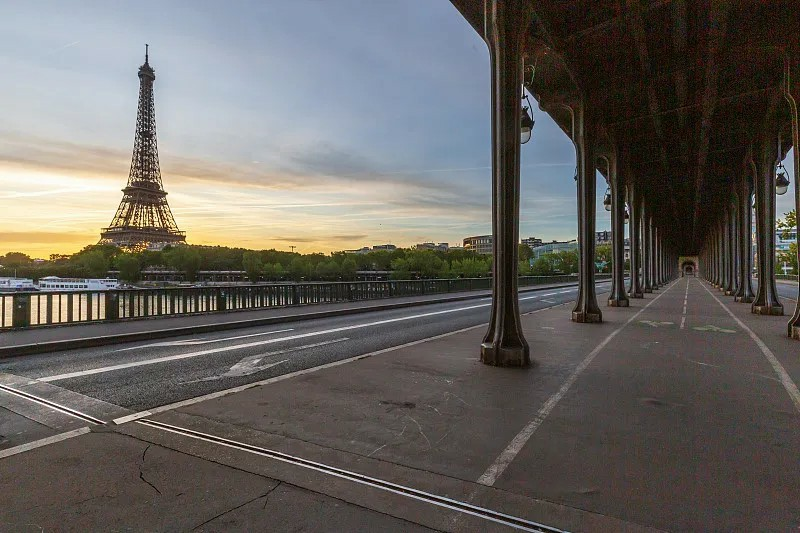Eiffel: (96, 45, 187, 256)
